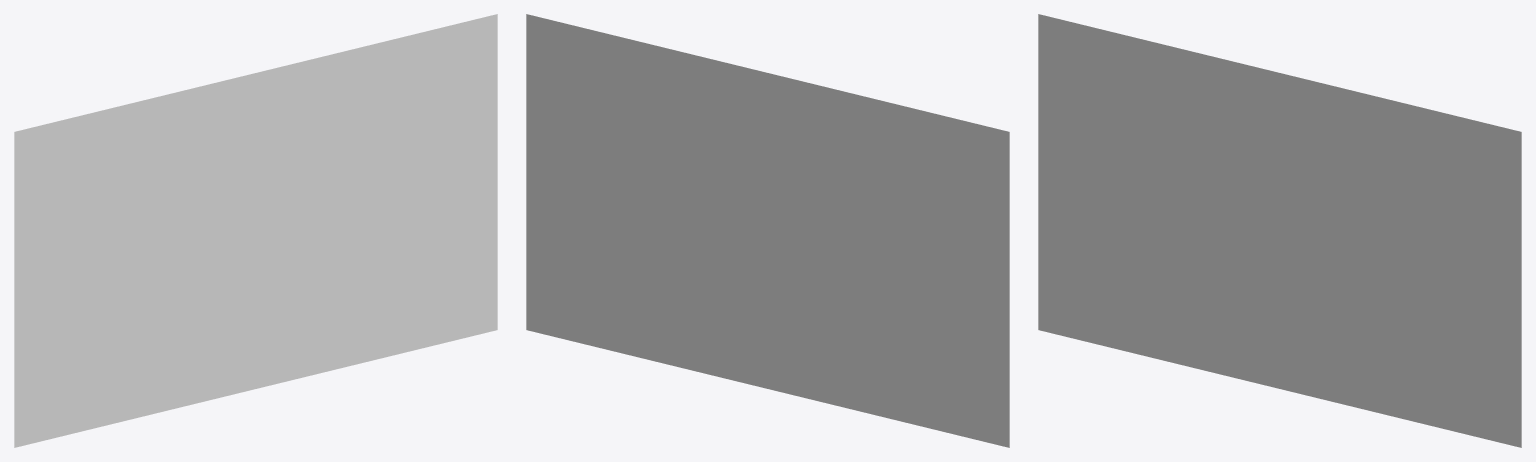
File: chr175_wtf.obj
3 views of the same model, side by side, from view 1: azimuth 30°, elevation 25°; view 2: azimuth 150°, elevation 25°; view 3: azimuth 330°, elevation 25° (orthographic).
Visible parts, largest first — view 1: group1; view 2: group1; view 3: group1.
Part boxes in pixels (box(x1,y1,x2,y2)): group1: box(14, 14, 497, 447); group1: box(526, 14, 1009, 447); group1: box(1038, 14, 1521, 447).
Size of the model in its own units: 660 by 412 by 7e-06.
